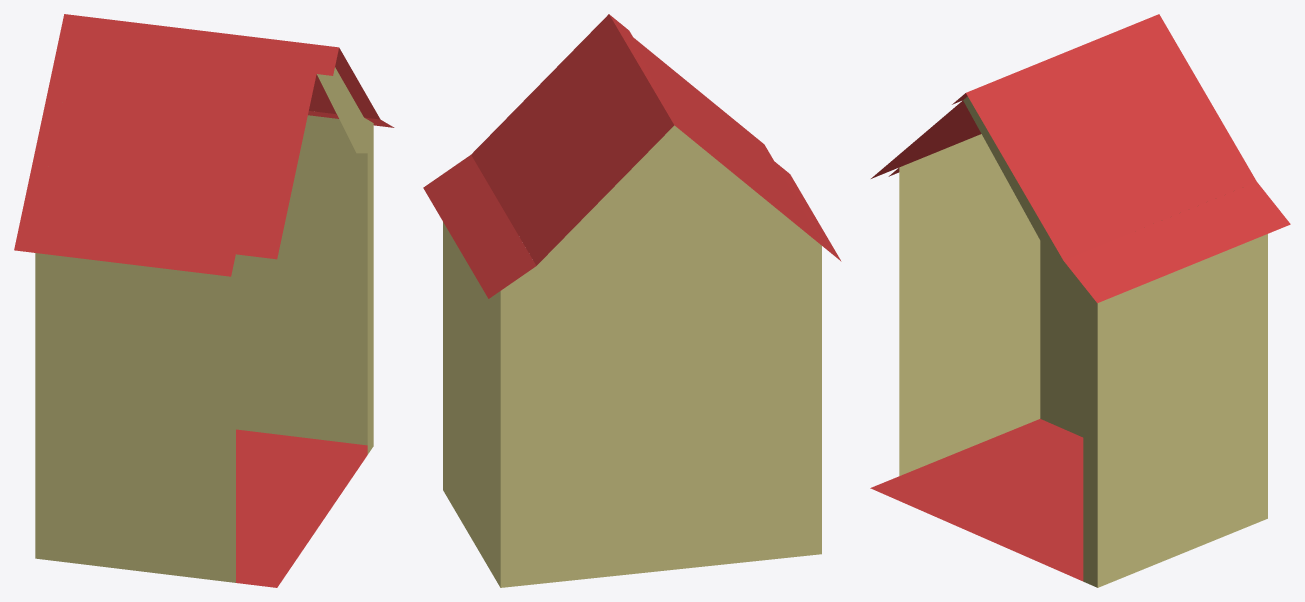
3 renders of one model, left to right at view 1: azimuth 30°, elevation 25°; view 2: azimuth 150°, elevation 25°; view 3: azimuth 270°, elevation 25°, orthographic. The views are drawn at different scales.
Bounding box in the file's own units: 13.8 × 13.02 × 15.26.
